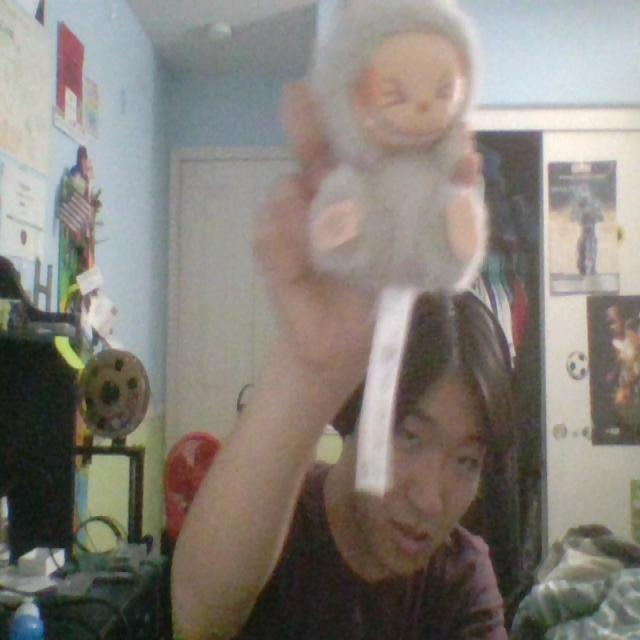labubu: (308, 0, 478, 289)
